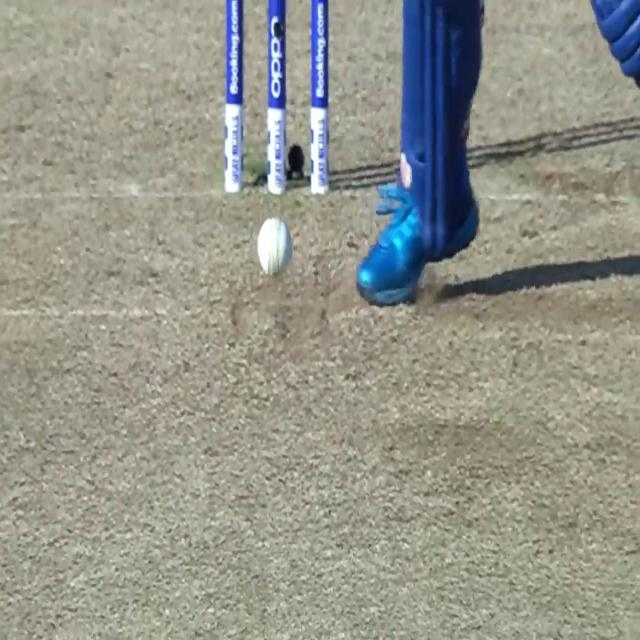ball: (254, 216, 292, 276)
